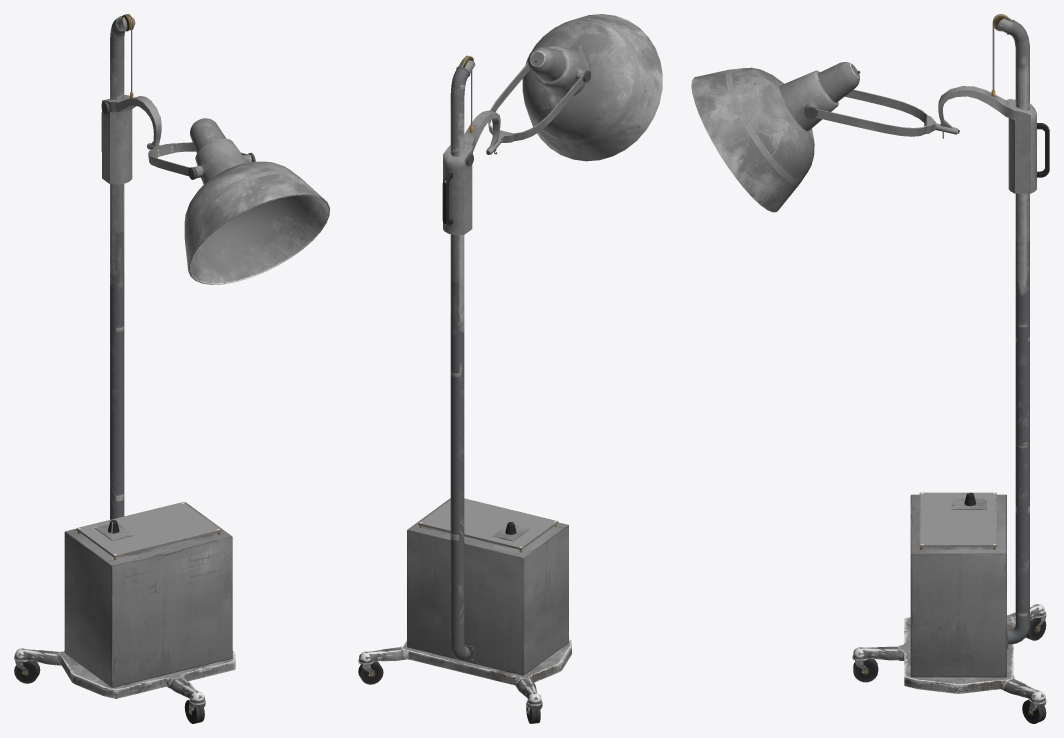
Rendered from SM_Floor_Lamp_1.FBX.
The picture shows the model from 3 angles, left to right: view 1: azimuth 30°, elevation 25°; view 2: azimuth 150°, elevation 25°; view 3: azimuth 270°, elevation 25°; orthographic projection. The views are drawn at different scales.
Parts seen in each view (by area): view 1: Floor_Lamp_1_body, Floor_Lamp_1_element_2, Floor_Lamp_1_element_1, wg_lp, Floor_Lamp_1_element_8; view 2: Floor_Lamp_1_body, Floor_Lamp_1_element_2, Floor_Lamp_1_element_1, Floor_Lamp_1_element_8, wg_lp; view 3: Floor_Lamp_1_body, Floor_Lamp_1_element_2, Floor_Lamp_1_element_1, wg_lp, Floor_Lamp_1_element_8.
Boxes of the visible parts, x1,y1,x2,y2 form: Floor_Lamp_1_body: (64,16,232,687); Floor_Lamp_1_element_2: (184,118,329,284); Floor_Lamp_1_element_1: (101,95,255,184); wg_lp: (76,502,221,557); Floor_Lamp_1_element_8: (14,648,235,703); Floor_Lamp_1_body: (407,66,568,675); Floor_Lamp_1_element_2: (522,14,662,161); Floor_Lamp_1_element_1: (442,58,590,234); Floor_Lamp_1_element_8: (359,639,571,704); wg_lp: (418,498,558,549); Floor_Lamp_1_body: (910,20,1029,677); Floor_Lamp_1_element_2: (691,62,859,212); Floor_Lamp_1_element_1: (804,86,1049,193); wg_lp: (919,492,996,547); Floor_Lamp_1_element_8: (853,604,1045,702).
Bounding box in the file's own units: 48.55 × 78.72 × 161.
